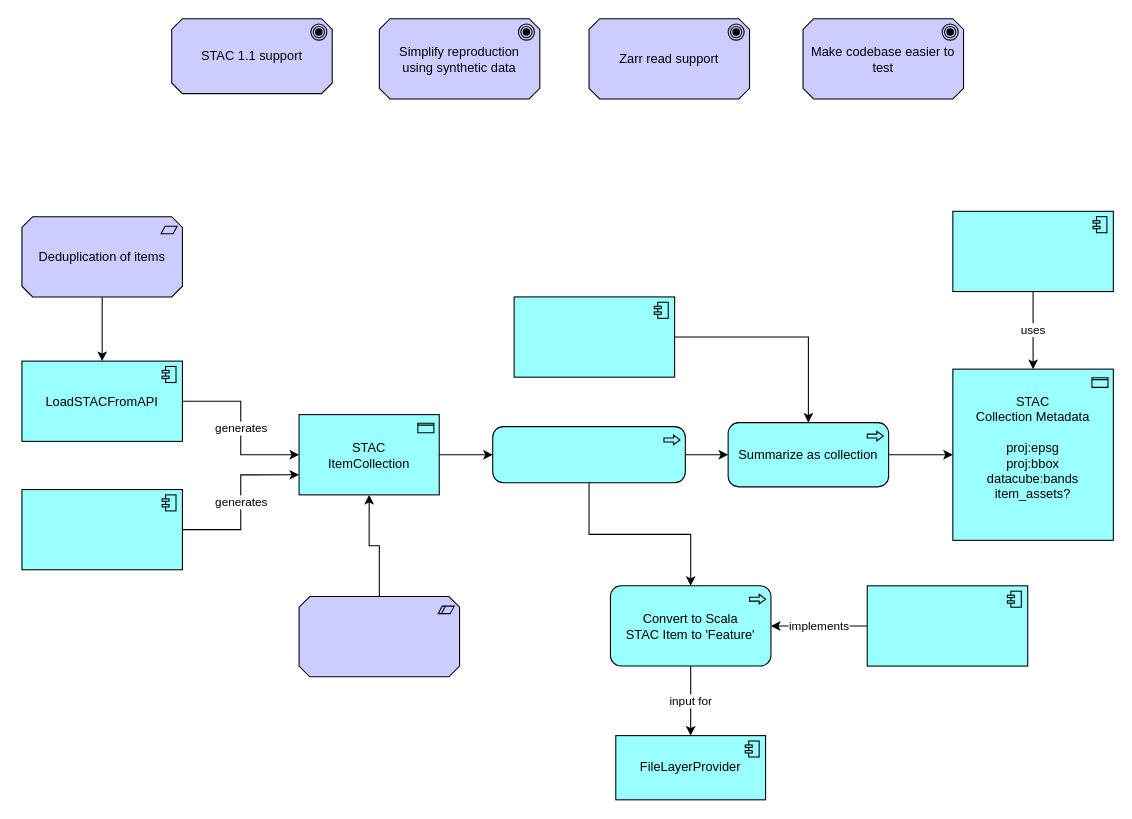
Some shapes in this 1132 by 819 pixel diagram are drawn without their labels. The box of each missing label's shape, as (x1, y1, x2, y2) in pixels:
Augment item properties proj:bbox proj:shape: (492, 426, 685, 483)
Can be large Persist on disk Should be cacheable Part of job-results: (298, 595, 460, 677)
DryRun SourceConstraints: (952, 210, 1113, 292)
LoadSTACFromStaticCatalog: (21, 488, 182, 570)
LoadStacProcess: (866, 585, 1028, 666)
STACCollectionBuilder: (513, 296, 675, 377)
